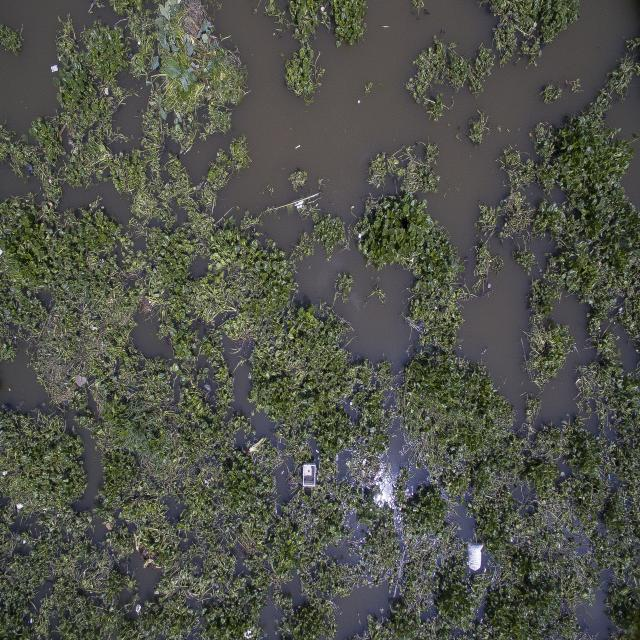Plastic: (466, 542, 484, 572), (300, 461, 317, 490), (136, 604, 142, 614), (296, 204, 304, 208)
